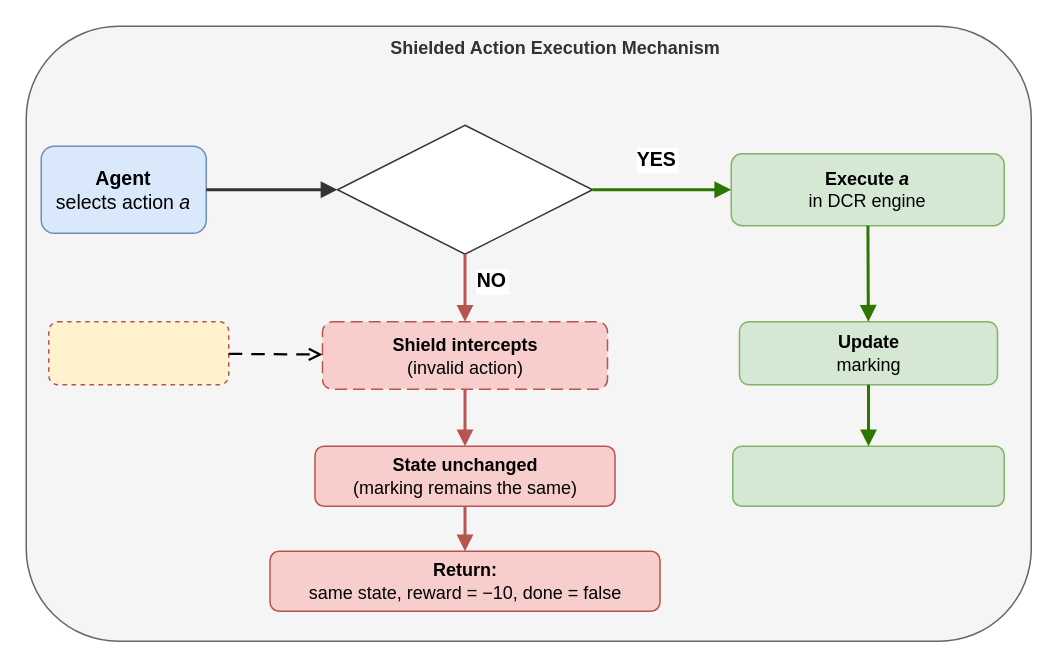
The diagram is 1058 pixels wide and 668 high, and some of its shapes have lost their labels. Each missing label, with the centre of its shape:
Is a ∈ enabled(marking) ?: the point at 464,189
Return: new state, reward ≥ 0, done: the point at 867,475
State not modified: the point at 138,352
